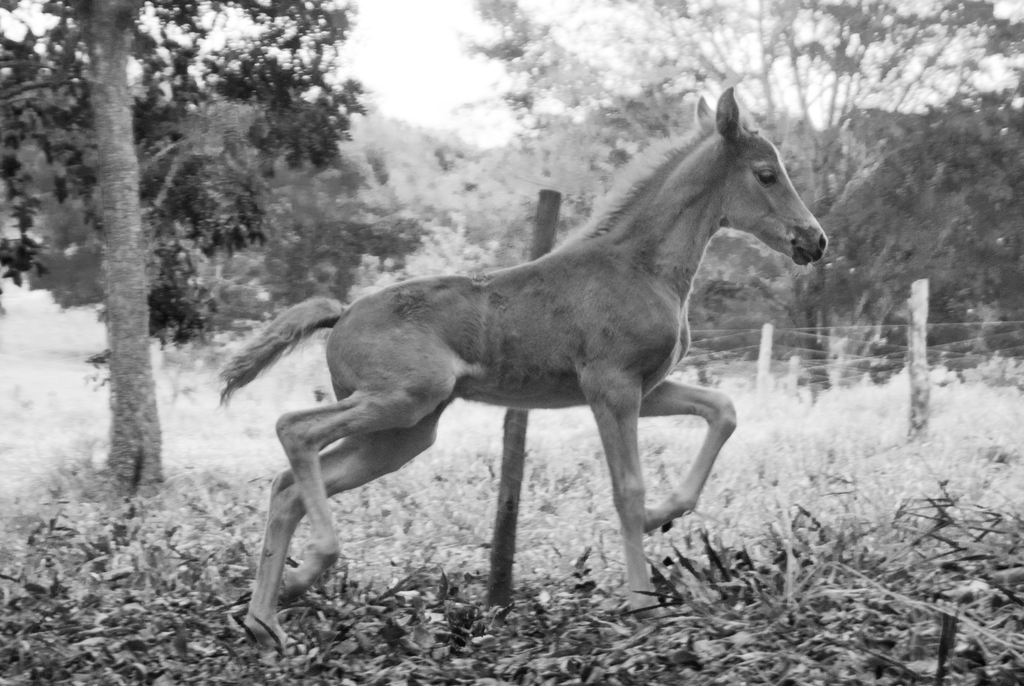horse: (215, 80, 828, 646)
